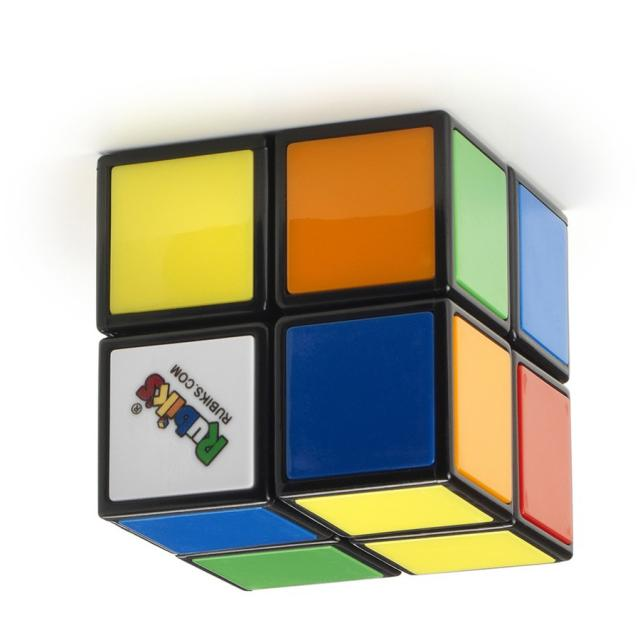cube: (99, 116, 567, 593)
